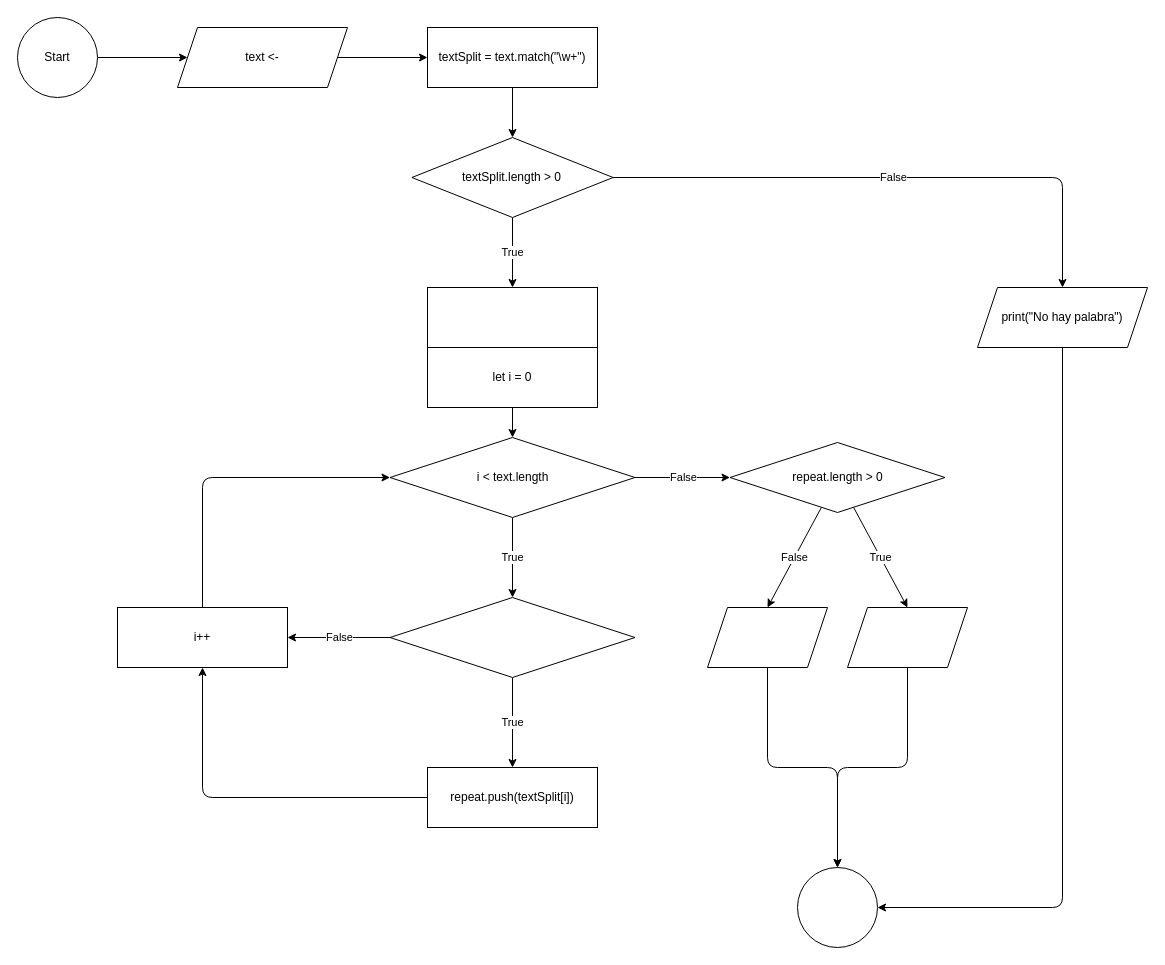
This 1165x965 diagram has some shape labels left out. The shapes that lost their labels are listed below. From the top down, each one's centre as x and y in pixels, then its label:
point (512, 317): let repeat = []
point (512, 637): textSplit.slice(0,i).includes(textSplit[i])
point (767, 637): print("No repeat"
point (907, 637): print(repeat)
point (837, 907): End
